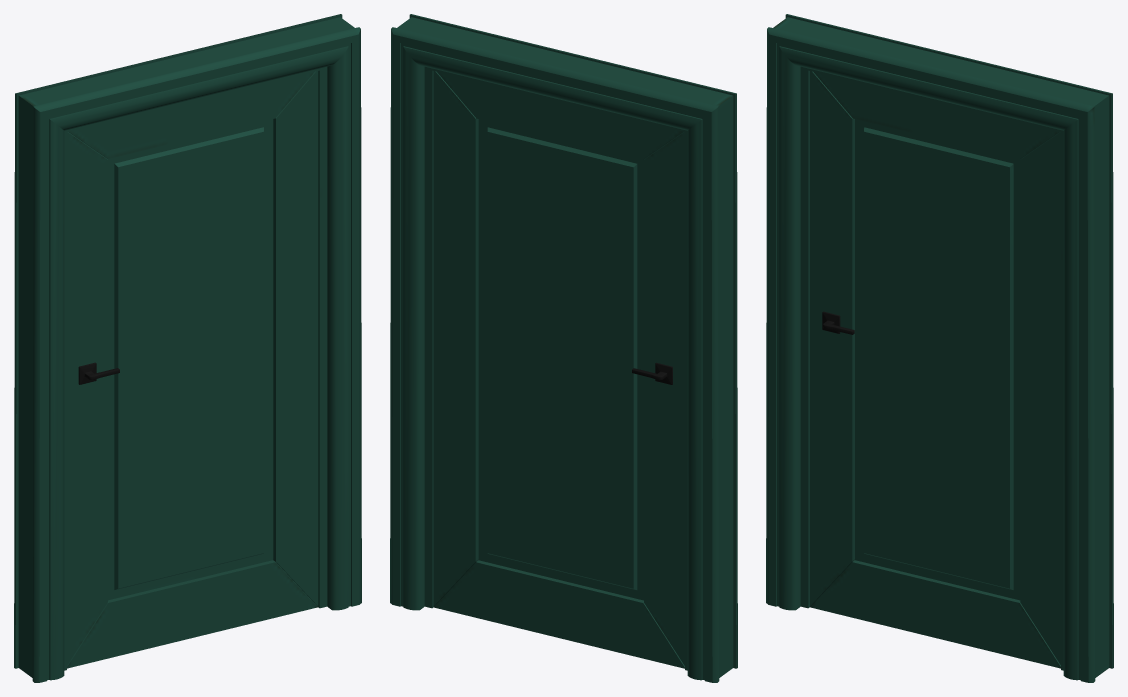
Rendered from door1.fbx.
3 renders of one model, left to right at view 1: azimuth 30°, elevation 25°; view 2: azimuth 150°, elevation 25°; view 3: azimuth 330°, elevation 25°, orthographic.
Parts seen in each view (by area): view 1: Plane.003, Cube.002; view 2: Plane.003, Cube.002; view 3: Plane.003, Cube.002.
Part boxes in pixels (box(x1,y1,x2,y2)): Plane.003: box(67, 71, 318, 668); Cube.002: box(14, 14, 361, 682); Plane.003: box(433, 71, 684, 668); Cube.002: box(390, 14, 737, 682); Plane.003: box(810, 71, 1060, 668); Cube.002: box(766, 14, 1113, 682).
Size of the model in its own units: 2.46 by 4.13 by 0.3159.
Materials: 1 (1 with a texture image).
